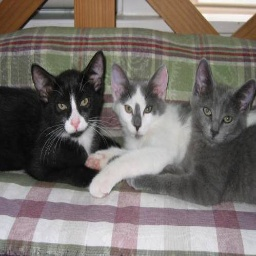cat: (18, 56, 256, 202)
